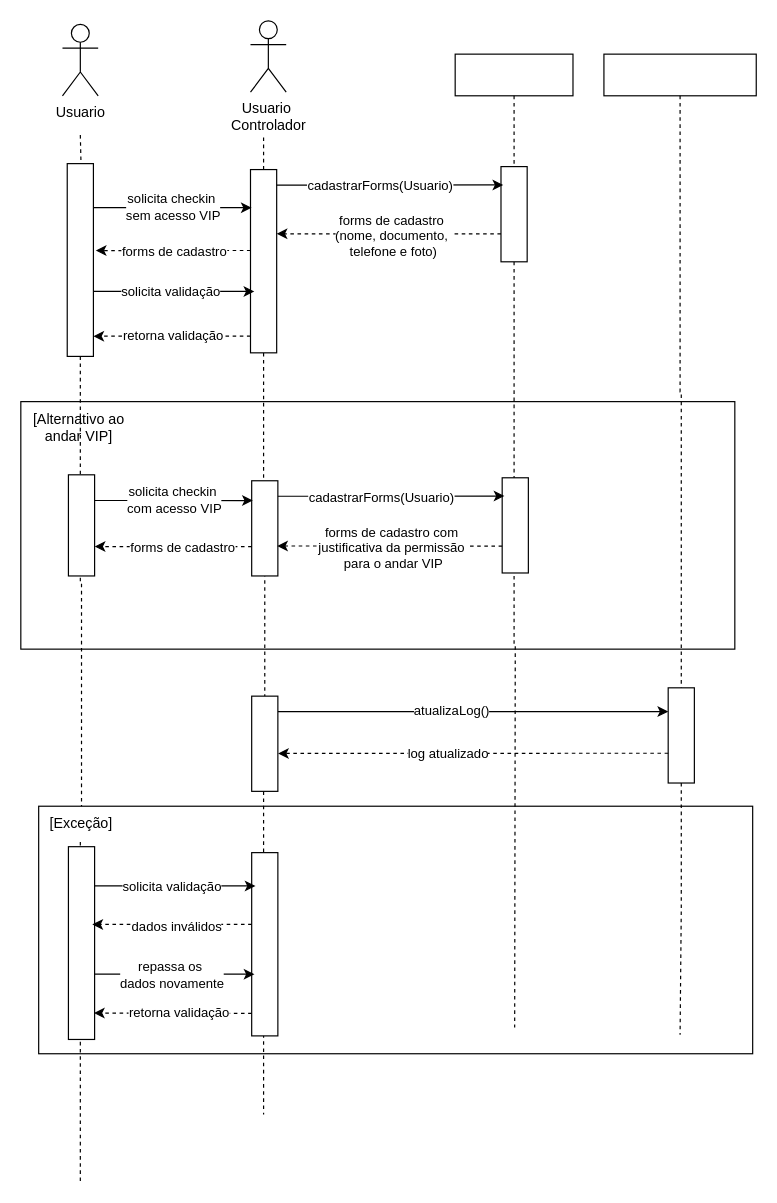
This 777x1203 diagram has some shape labels left out. Here are the shapes that lost their labels. From the top down, the box of each, then its label:
(454, 53, 573, 96): Check In
(603, 53, 756, 96): Sala de Comando
